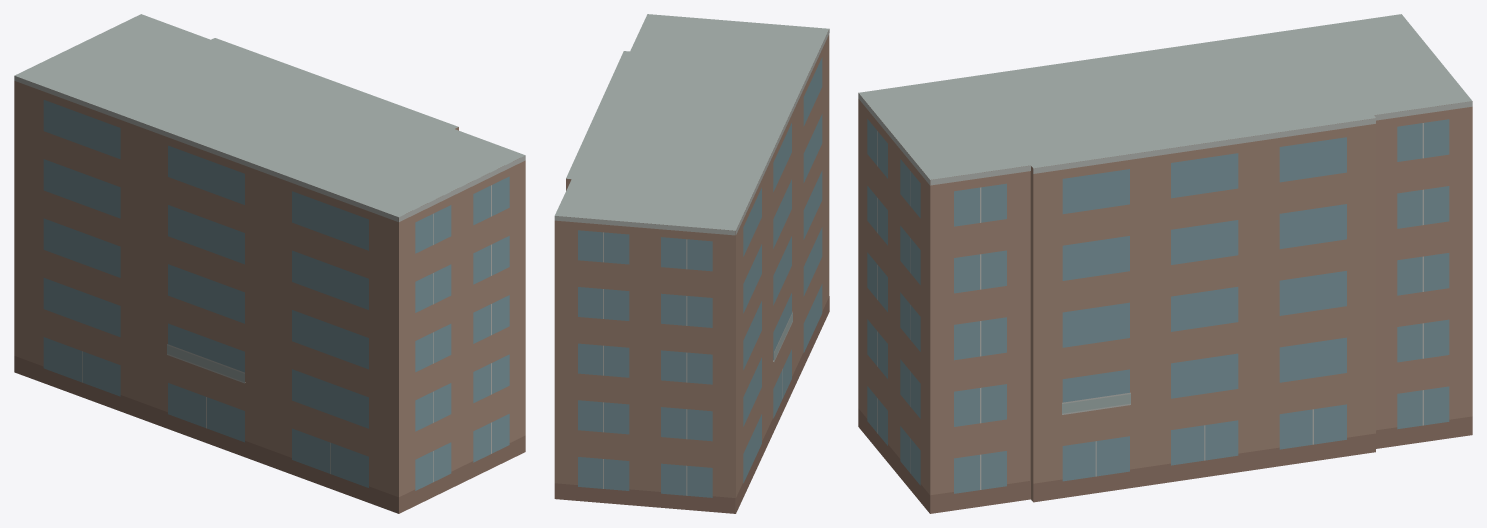
The model's file is survey-upis-32745668.glb.
3 renders of one model, left to right at view 1: azimuth 30°, elevation 25°; view 2: azimuth 150°, elevation 25°; view 3: azimuth 270°, elevation 25°, orthographic. The views are drawn at different scales.
Visible parts, largest first — view 1: survey-upis-32745668.tmp; view 2: survey-upis-32745668.tmp; view 3: survey-upis-32745668.tmp.
Part boxes in pixels (x1,y1,x2,y2): survey-upis-32745668.tmp: [14, 14, 525, 513]; survey-upis-32745668.tmp: [554, 14, 829, 513]; survey-upis-32745668.tmp: [858, 14, 1472, 513].
Bounding box in the file's own units: 15.35 × 14.4 × 24.01.
